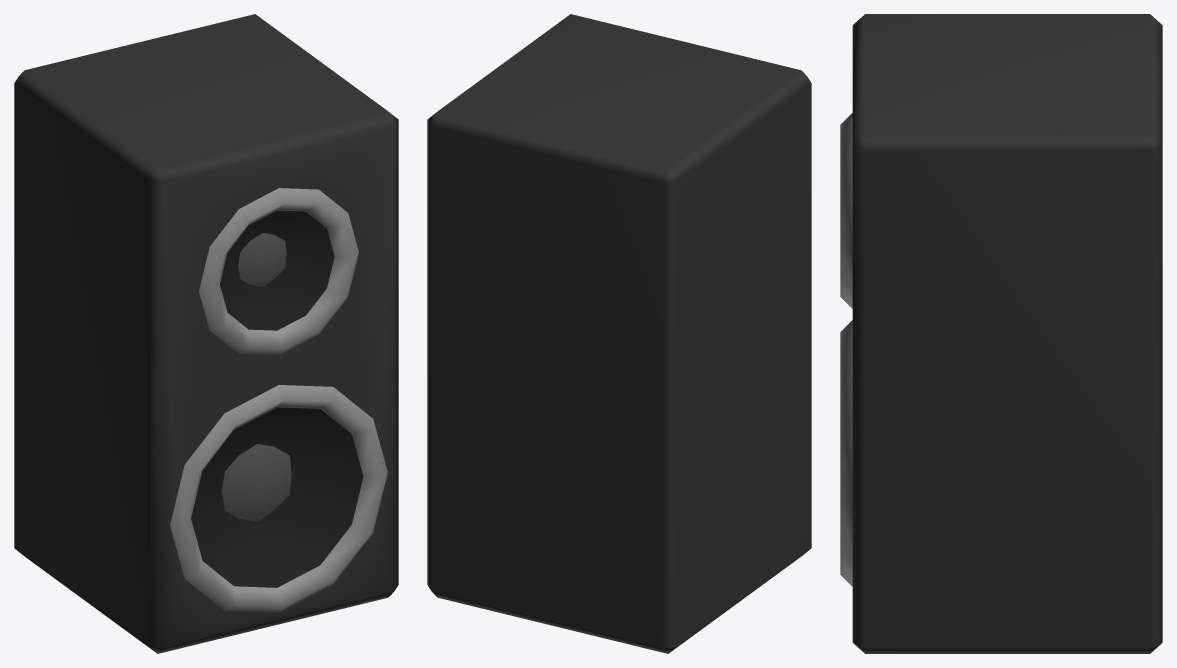
The model's file is speaker_001.gltf.
The picture shows the model from 3 angles, left to right: view 1: azimuth 30°, elevation 25°; view 2: azimuth 150°, elevation 25°; view 3: azimuth 270°, elevation 25°; orthographic projection. The views are drawn at different scales.
Parts seen in each view (by area): view 1: speaker_001; view 2: speaker_001; view 3: speaker_001.
Boxes of the visible parts, x1,y1,x2,y2 form: speaker_001: [14, 14, 398, 653]; speaker_001: [427, 14, 811, 653]; speaker_001: [840, 14, 1162, 653].
Bounding box in the file's own units: 0.7221 × 1.34 × 0.751.
1 material, 1 textured.
